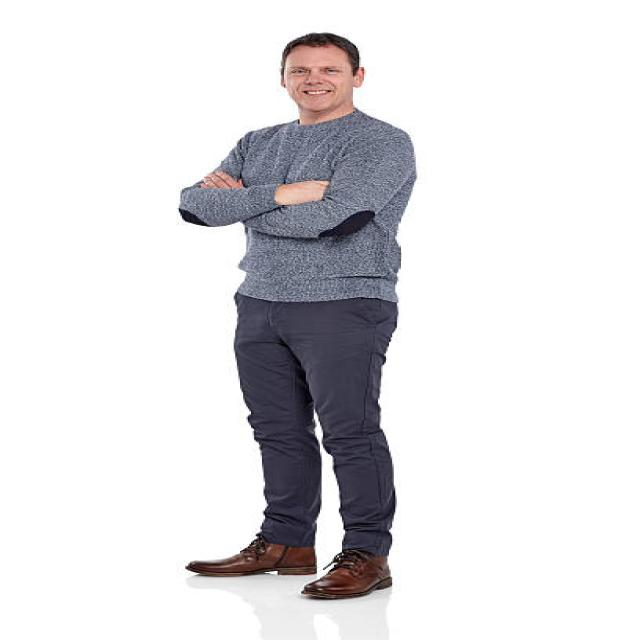Edited images: (155, 19, 449, 616)
